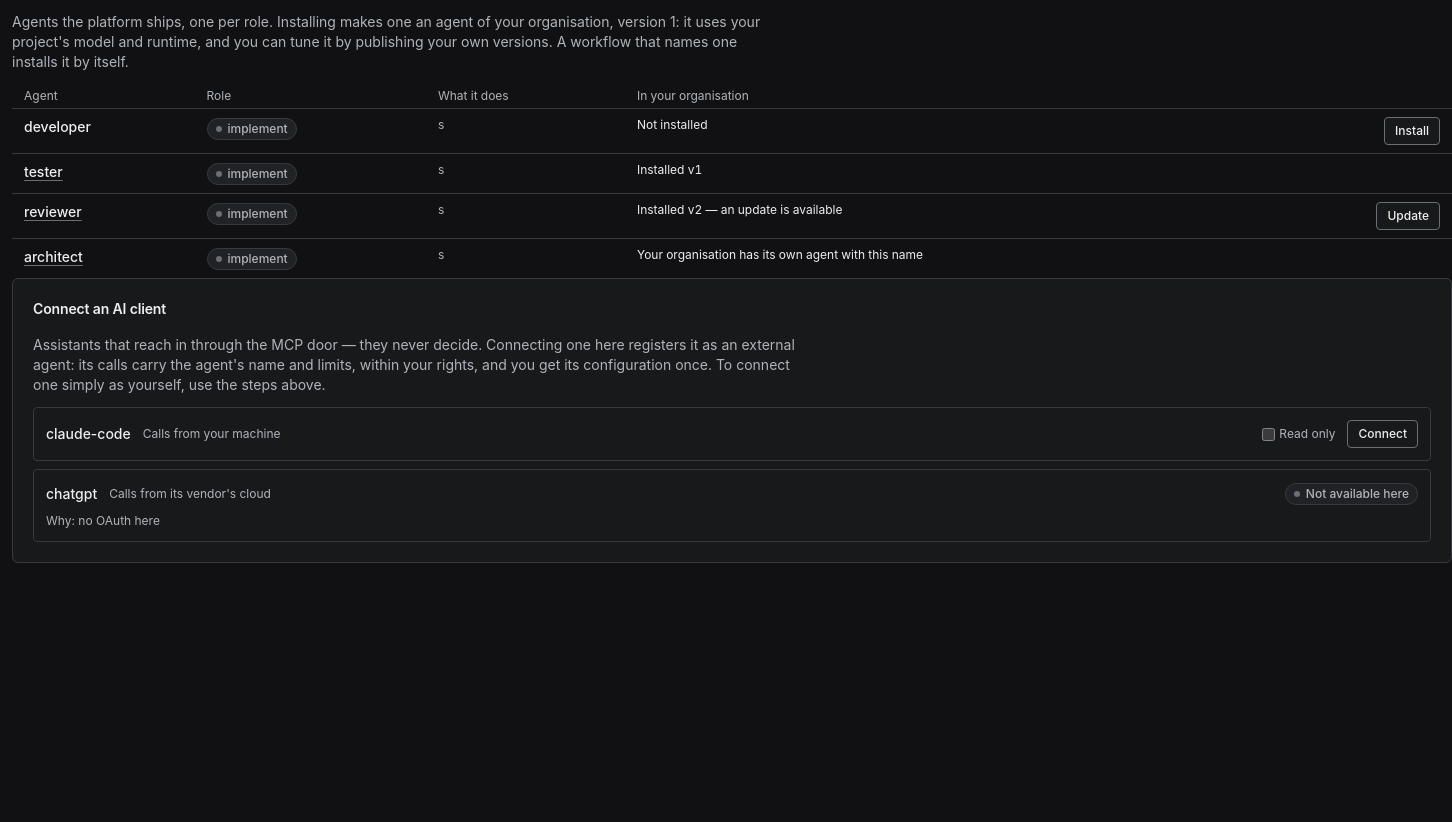
le catalogue d'agents dans la console (S21-18) › connecte Claude Code en un clic et montre sa configuration, avec le jeton, une fois
Click the checkbox labelled "Read only": (1269, 434) left=1262, top=428, right=1275, bottom=440
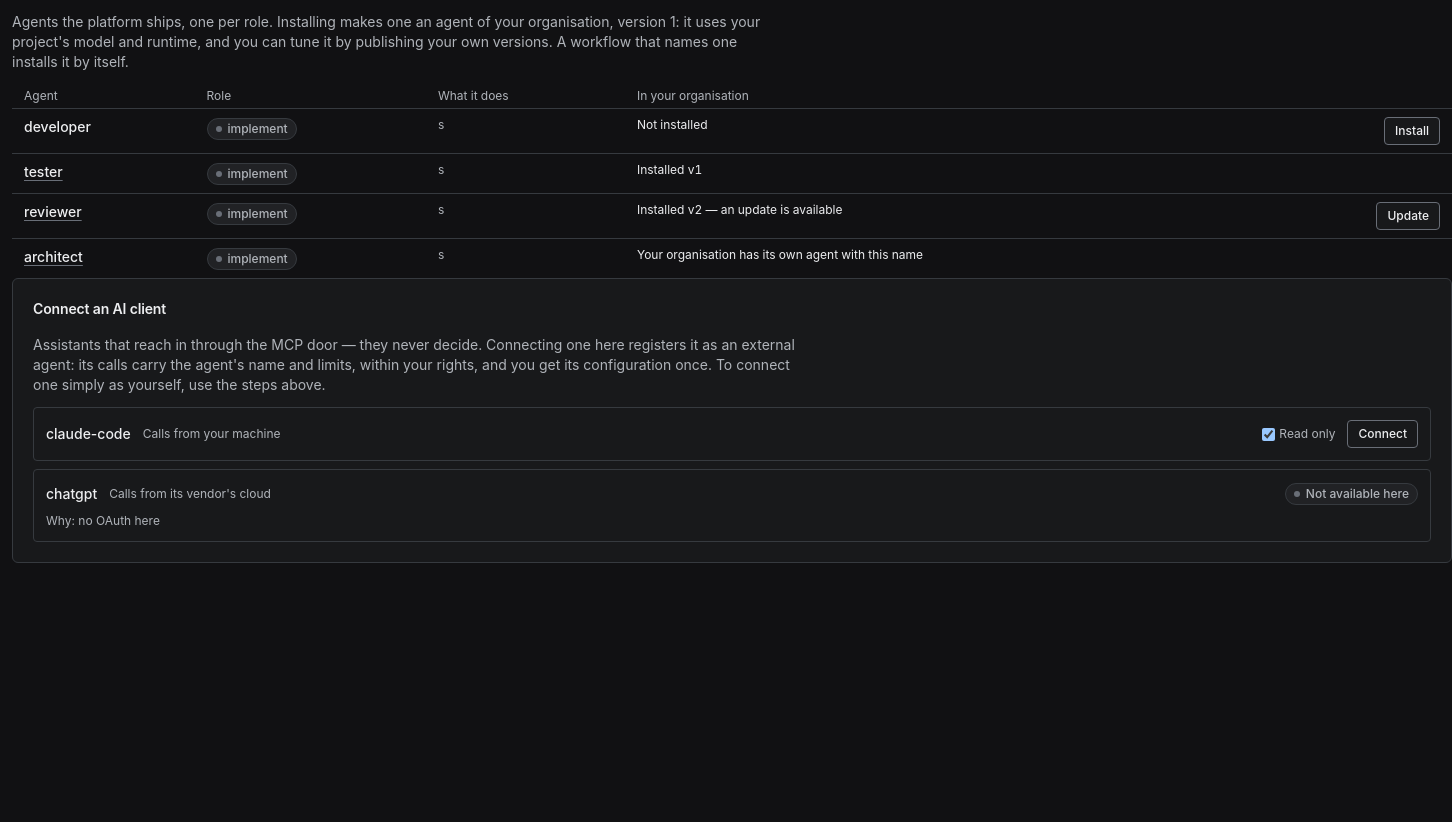
Click the button "Connect": (1383, 434) left=1348, top=420, right=1418, bottom=448
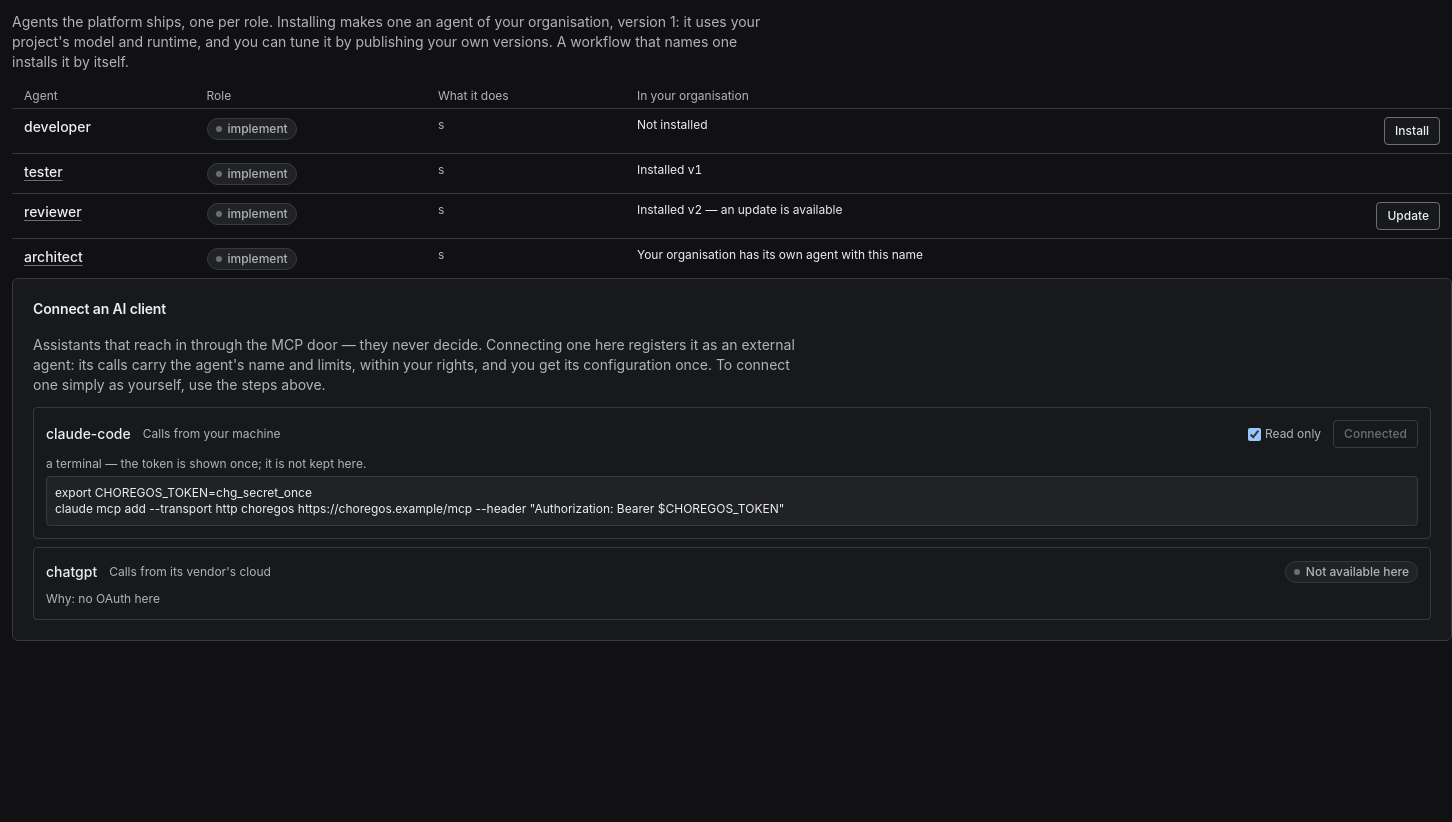
Expected: the element with test id "extrait-claude-code" shows "chg_secret_once", left=55, top=485, right=784, bottom=516
Expected: the element with test id "extrait-claude-code" shows "https://choregos.example/mcp", left=55, top=485, right=784, bottom=516
Expected: the button "Connected" is disabled, left=1333, top=420, right=1418, bottom=448
